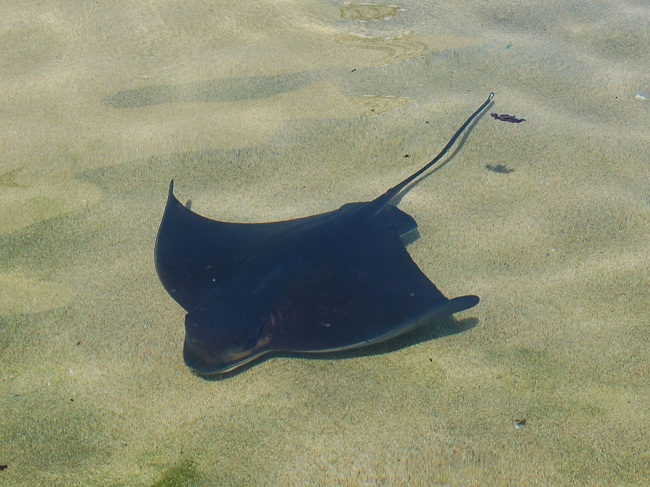Bat Ray: (66, 26, 549, 389)
